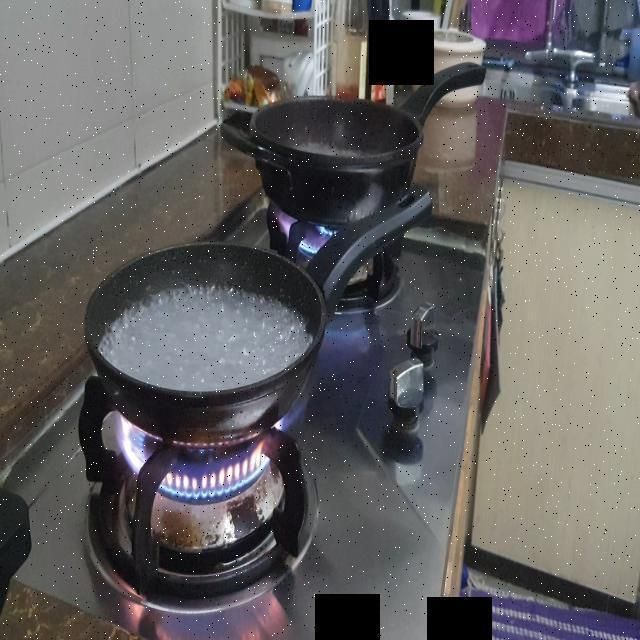Flame: (122, 422, 284, 510), (275, 205, 334, 252)
Pan: (89, 243, 354, 437), (231, 103, 453, 218)
